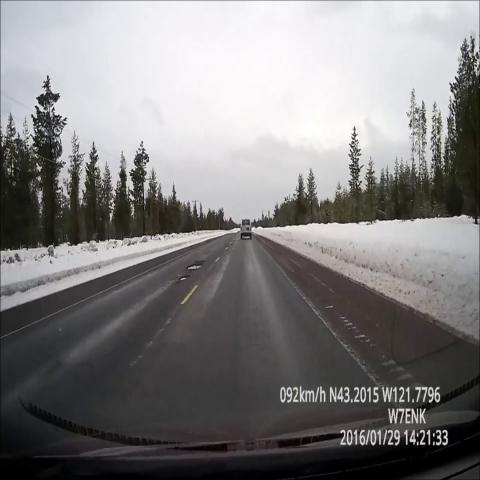pothole: (171, 270, 192, 288), (184, 258, 208, 272)
